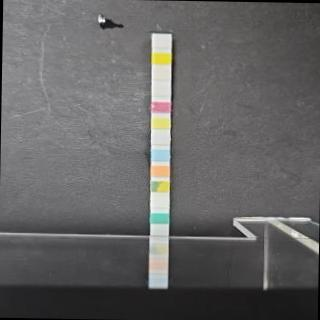mark: (150, 164, 168, 177), (152, 116, 170, 129), (151, 101, 170, 113), (152, 36, 171, 48), (150, 212, 168, 224), (150, 196, 168, 208), (150, 180, 168, 192), (152, 52, 170, 64), (152, 84, 169, 96), (153, 67, 170, 79), (152, 149, 168, 161), (152, 133, 168, 145)
